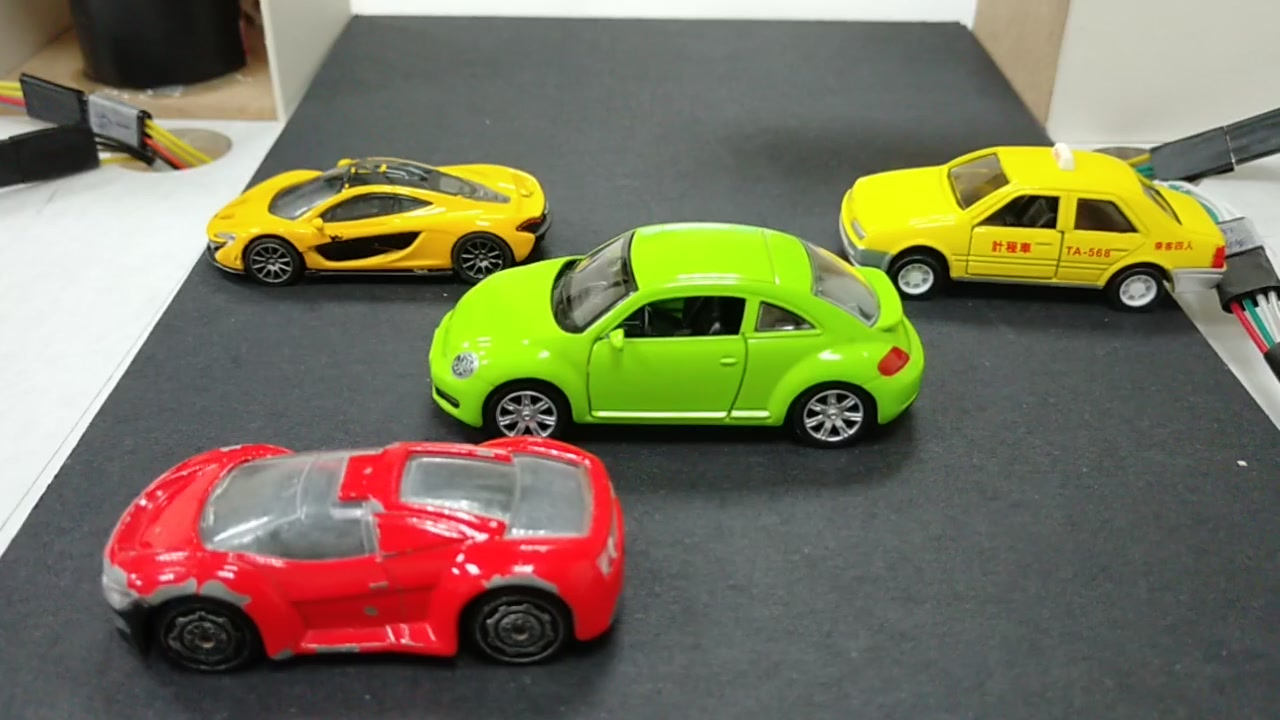car: (109, 443, 626, 658), (425, 241, 921, 434), (851, 138, 1227, 311), (207, 174, 550, 266)
